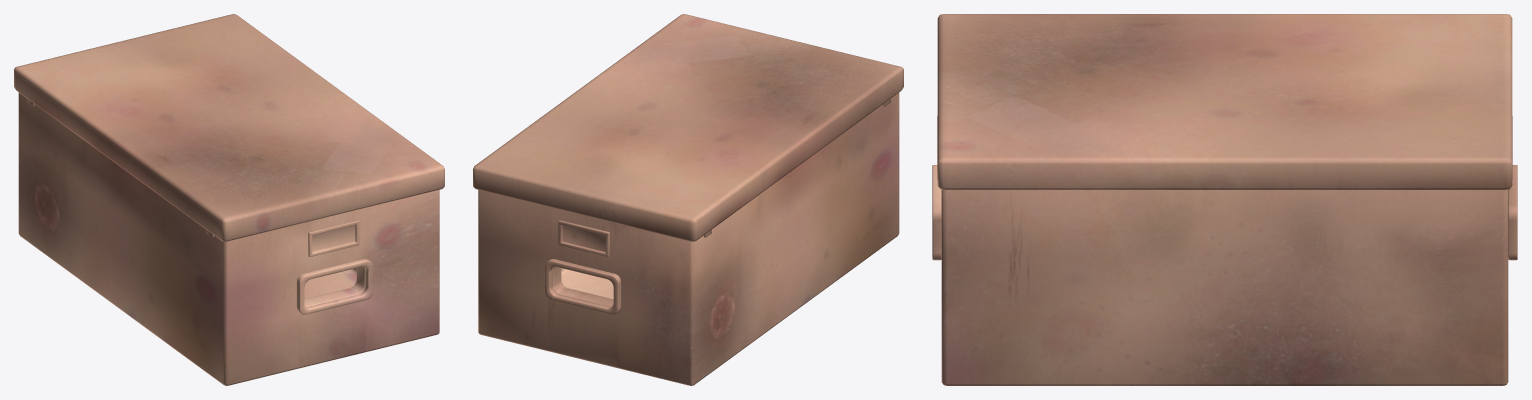
The picture shows the model from 3 angles, left to right: view 1: azimuth 30°, elevation 25°; view 2: azimuth 150°, elevation 25°; view 3: azimuth 270°, elevation 25°; orthographic projection. The views are drawn at different scales.
Parts seen in each view (by area): view 1: box_mesh, lid, holder_001_mesh, label_002_mesh; view 2: box_mesh, lid, holder_002_mesh, label_001_mesh; view 3: box_mesh, lid, holder_001_mesh, holder_002_mesh.
Boxes of the visible parts, x1,y1,x2,y2 form: box_mesh: (18, 92, 439, 385); lid: (14, 14, 444, 241); holder_001_mesh: (296, 259, 372, 314); label_002_mesh: (308, 220, 359, 256); box_mesh: (478, 92, 899, 385); lid: (473, 14, 903, 241); holder_002_mesh: (545, 259, 621, 314); label_001_mesh: (558, 220, 609, 256); box_mesh: (941, 189, 1508, 385); lid: (937, 14, 1512, 189); holder_001_mesh: (932, 165, 941, 260); holder_002_mesh: (1508, 165, 1517, 260).
Bounding box in the file's own units: 0.3458 × 0.2508 × 0.5781.
Materials: 1 (1 with a texture image).
